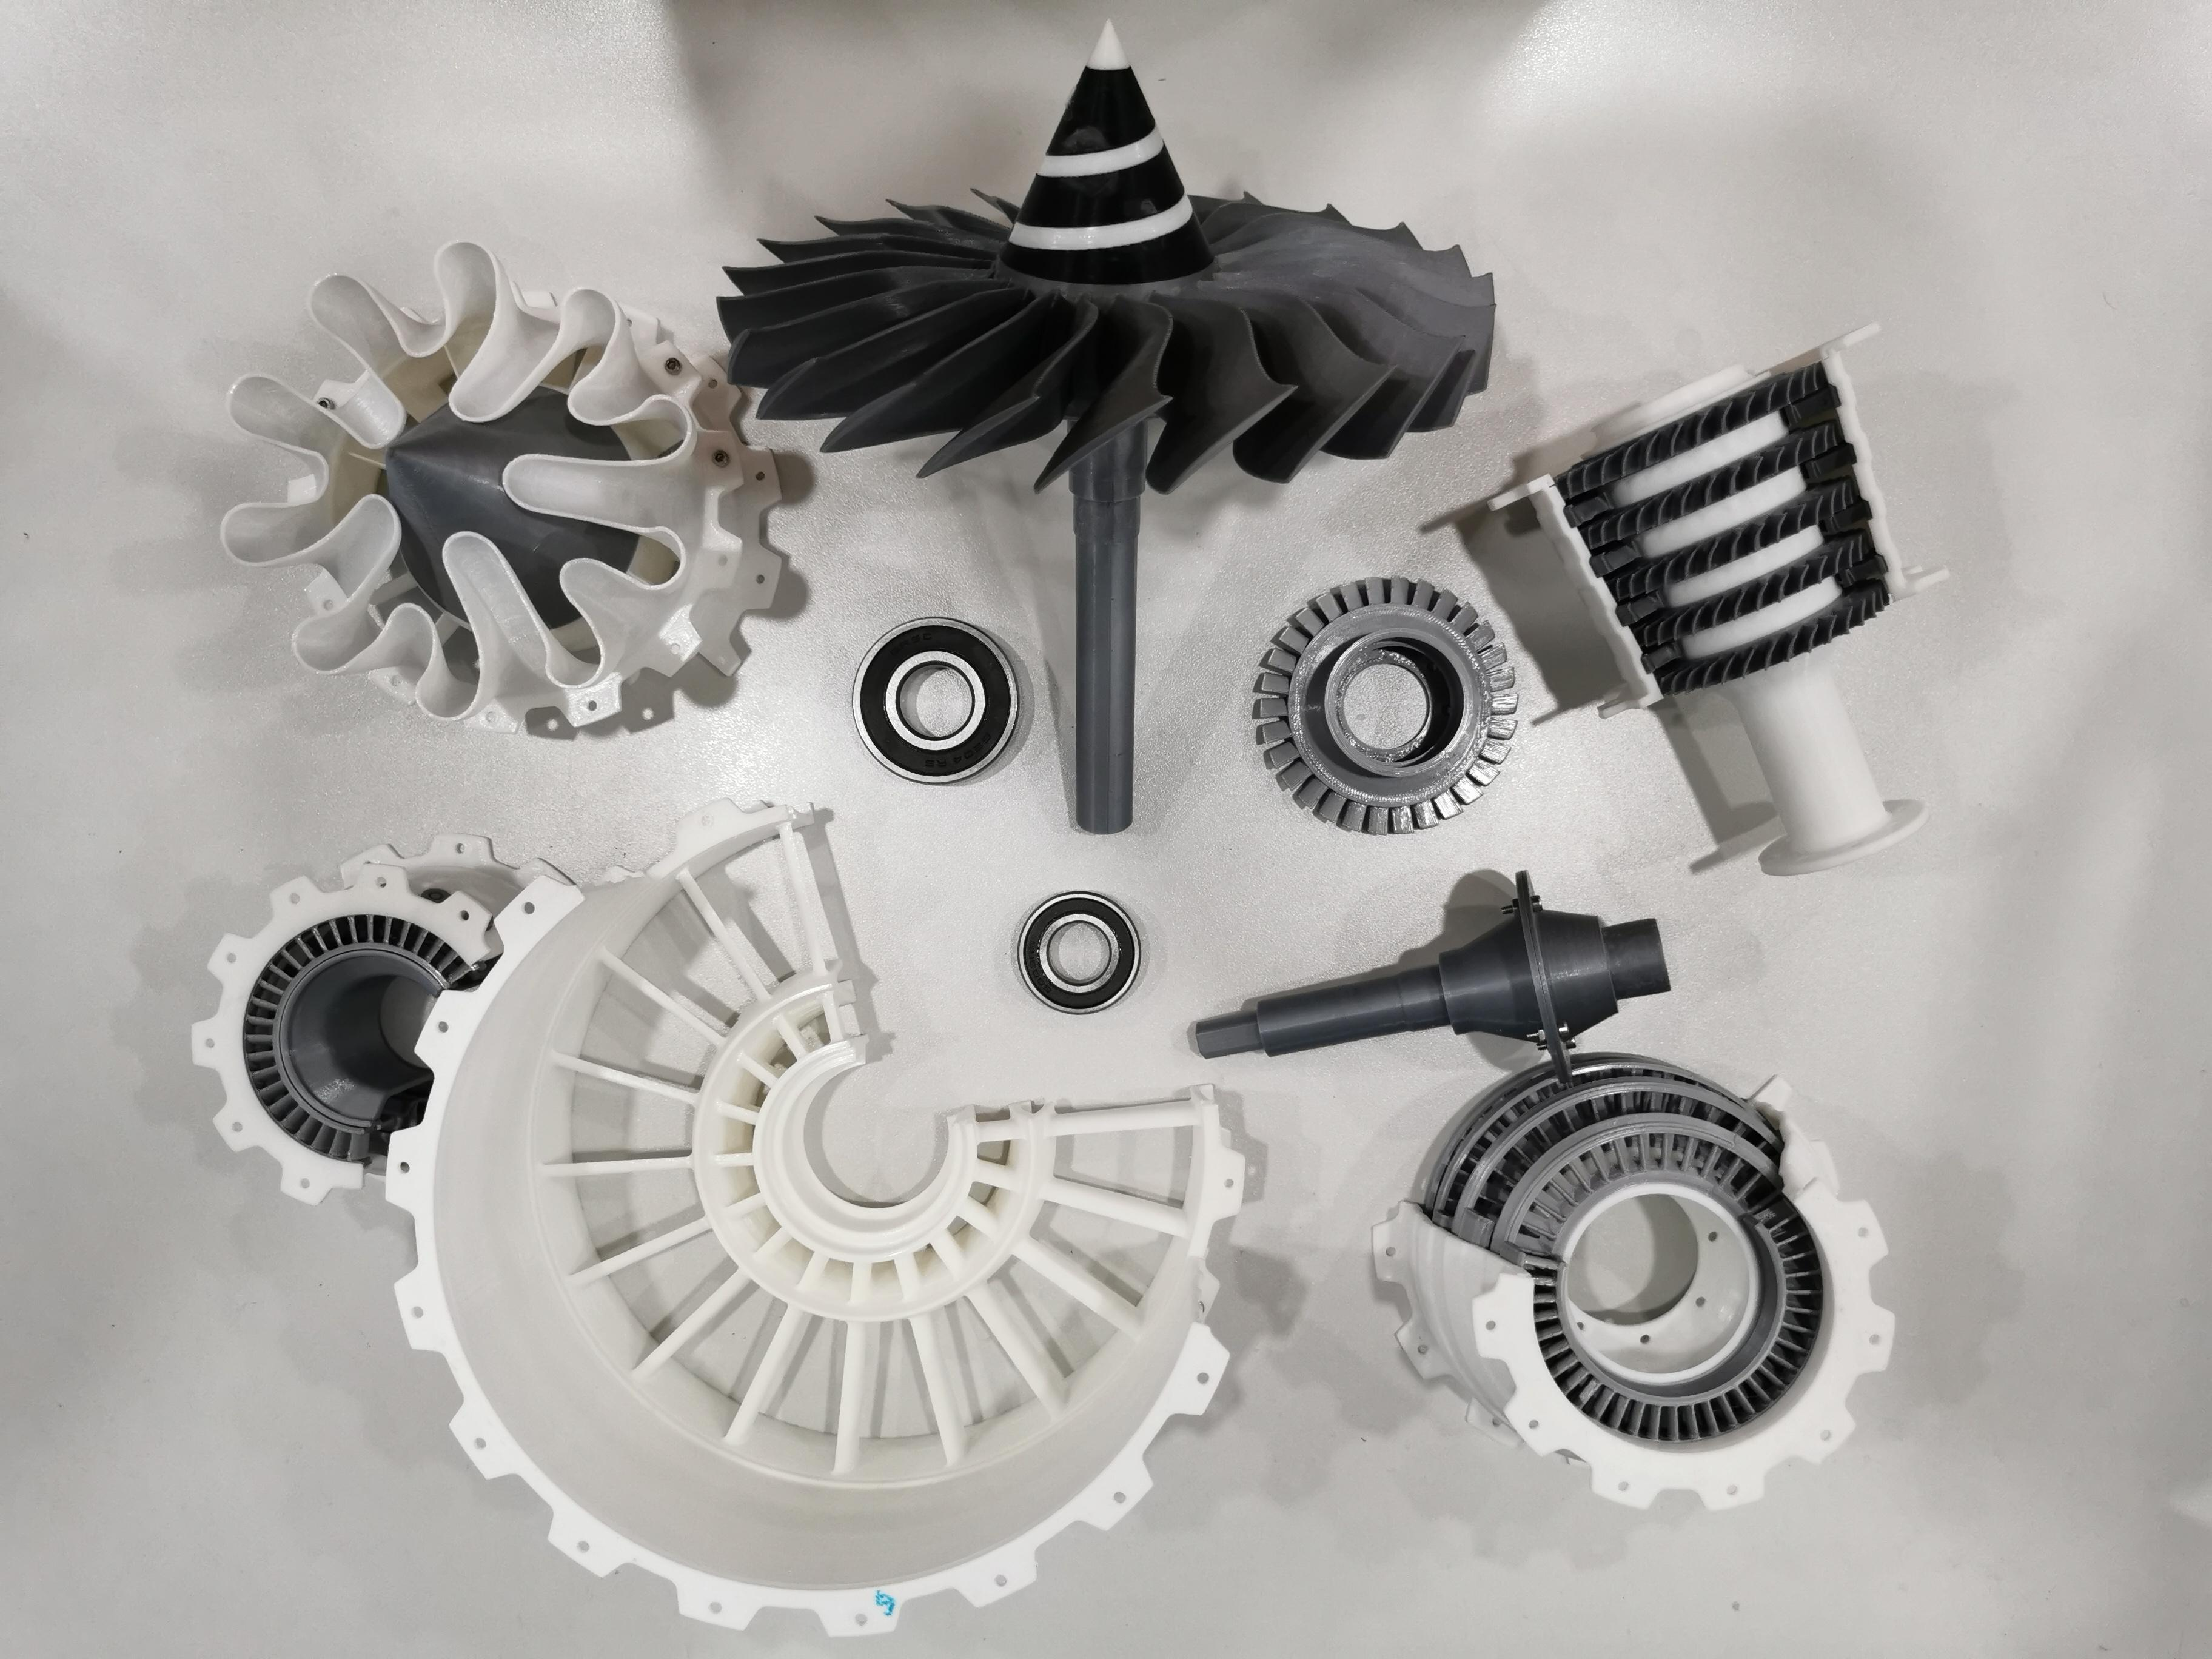Bearing-6003: (993, 880, 1153, 1037)
Bearing-6204: (850, 603, 1029, 793)
Combustion Section: (176, 824, 578, 1220)
Fan Casing and Support: (369, 795, 1254, 1647)
Fan and Low Pressure Shaft: (711, 12, 1503, 843)
HPT Section: (1240, 559, 1529, 866)
High Pressure Spool: (1477, 301, 1963, 882)
LPT Section: (1357, 1047, 1904, 1521)
Low Pressure Spool: (1188, 856, 1691, 1089)
Nozzle Section: (202, 234, 796, 753)
